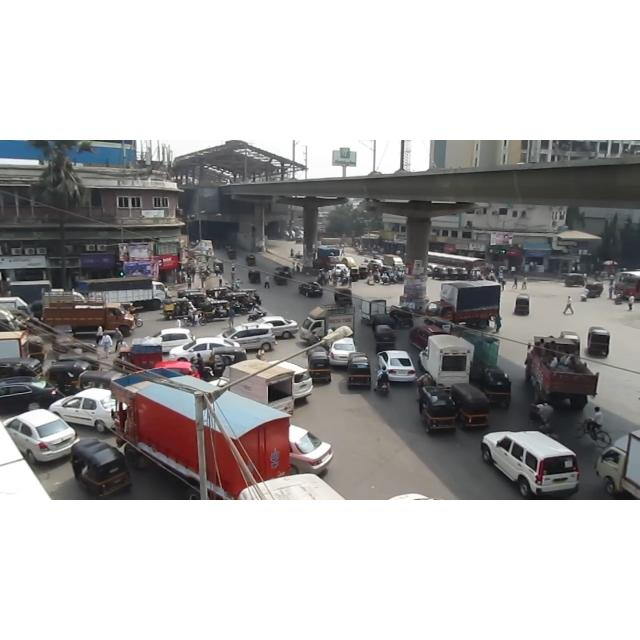auto: (73, 439, 135, 497), (449, 380, 493, 426), (421, 389, 459, 431), (347, 353, 376, 392), (308, 348, 336, 388), (485, 366, 512, 403), (591, 324, 609, 361), (375, 324, 397, 352), (516, 294, 534, 322), (583, 281, 605, 302), (566, 270, 590, 286), (337, 289, 353, 308), (247, 272, 265, 288), (433, 267, 449, 281), (351, 267, 361, 285), (450, 264, 460, 282), (462, 260, 470, 280)
car: (481, 431, 579, 499), (3, 408, 79, 464), (48, 388, 116, 432), (0, 376, 62, 414), (289, 425, 333, 475), (270, 360, 314, 400), (217, 323, 277, 352), (168, 337, 240, 361), (378, 350, 416, 382), (149, 327, 195, 353), (254, 315, 298, 339), (329, 338, 357, 366), (298, 282, 324, 298), (274, 266, 292, 278), (332, 263, 348, 273)
truck: (113, 368, 291, 500), (525, 336, 599, 410), (456, 327, 512, 408), (42, 292, 136, 336), (1, 422, 51, 500), (229, 359, 295, 415), (425, 280, 501, 328), (418, 334, 474, 392), (595, 430, 640, 500), (77, 277, 169, 311), (299, 304, 355, 340), (456, 329, 500, 371), (0, 330, 30, 358), (313, 245, 341, 269), (361, 300, 387, 324), (382, 254, 404, 268), (320, 237, 342, 247)
